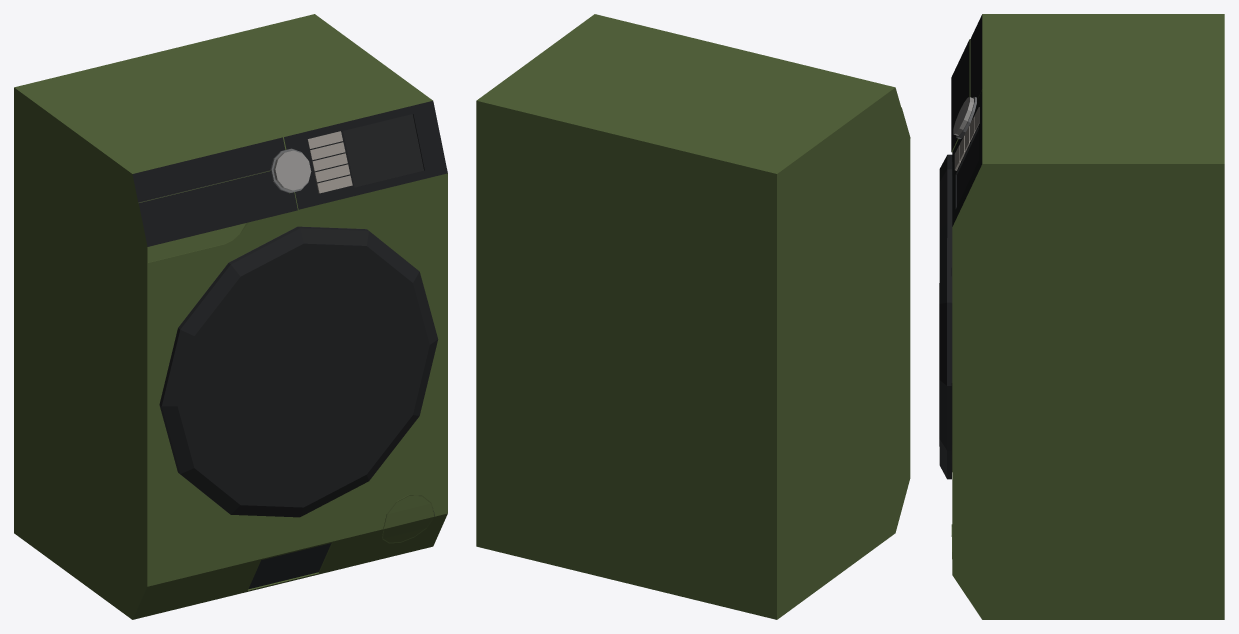
The model's file is washingmachinemodern_01_B.gltf.
The picture shows the model from 3 angles, left to right: view 1: azimuth 30°, elevation 25°; view 2: azimuth 150°, elevation 25°; view 3: azimuth 270°, elevation 25°; orthographic projection. The views are drawn at different scales.
Parts seen in each view (by area): view 1: washingmachinemodern_01_B, Doorforwashingmachinemodern_01_B, Shelfforwashingmachinemodern_01_B, Hatchforwashingmachinemodern_01_B, Switchforwashingmachinemodern_01_B; view 2: washingmachinemodern_01_B; view 3: washingmachinemodern_01_B, Doorforwashingmachinemodern_01_B, Shelfforwashingmachinemodern_01_B, Switchforwashingmachinemodern_01_B.
Part boxes in pixels (bbox=[...]): washingmachinemodern_01_B: bbox=[14, 14, 447, 619]; Doorforwashingmachinemodern_01_B: bbox=[159, 226, 438, 517]; Shelfforwashingmachinemodern_01_B: bbox=[138, 170, 297, 246]; Hatchforwashingmachinemodern_01_B: bbox=[382, 495, 434, 543]; Switchforwashingmachinemodern_01_B: bbox=[273, 150, 311, 190]; washingmachinemodern_01_B: bbox=[476, 14, 910, 619]; washingmachinemodern_01_B: bbox=[952, 14, 1224, 619]; Doorforwashingmachinemodern_01_B: bbox=[939, 154, 952, 479]; Shelfforwashingmachinemodern_01_B: bbox=[951, 39, 970, 152]; Switchforwashingmachinemodern_01_B: bbox=[953, 97, 973, 135].
Size of the model in its own units: 0.6 by 0.85 by 0.4818.
Materials: 1 (1 with a texture image).
